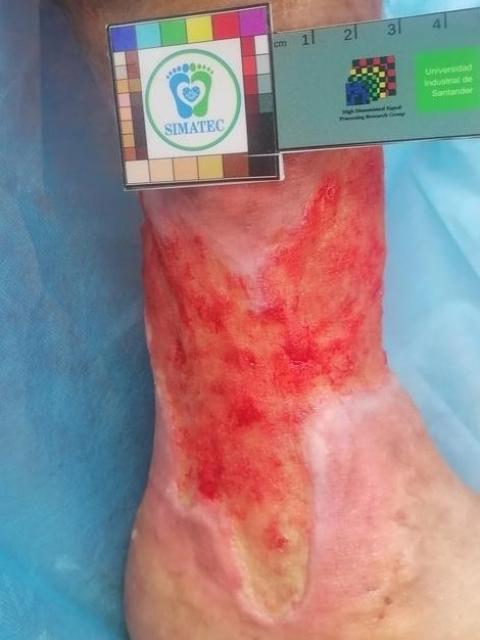wound: (139, 145, 386, 617)
